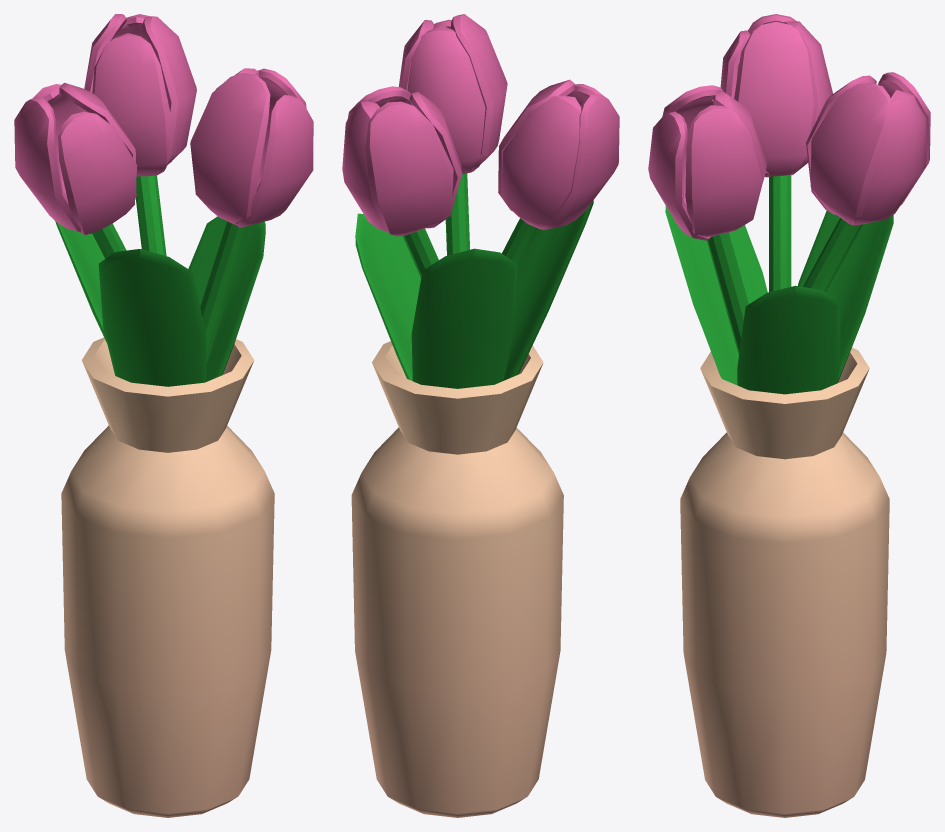
Rendered from flower_vase1.fbx.
3 views of the same model, side by side, from view 1: azimuth 30°, elevation 25°; view 2: azimuth 150°, elevation 25°; view 3: azimuth 270°, elevation 25° (orthographic).
Visible parts, largest first — view 1: flower_vase1; view 2: flower_vase1; view 3: flower_vase1.
Boxes of the visible parts, <box> form: flower_vase1: <box>14,14,313,817</box>; flower_vase1: <box>342,14,619,817</box>; flower_vase1: <box>648,14,930,817</box>.
Bounding box in the file's own units: 0.9387 × 2.73 × 0.9622.
